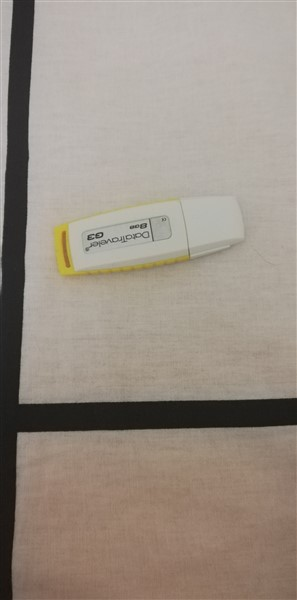flash disk: (49, 192, 254, 281)
